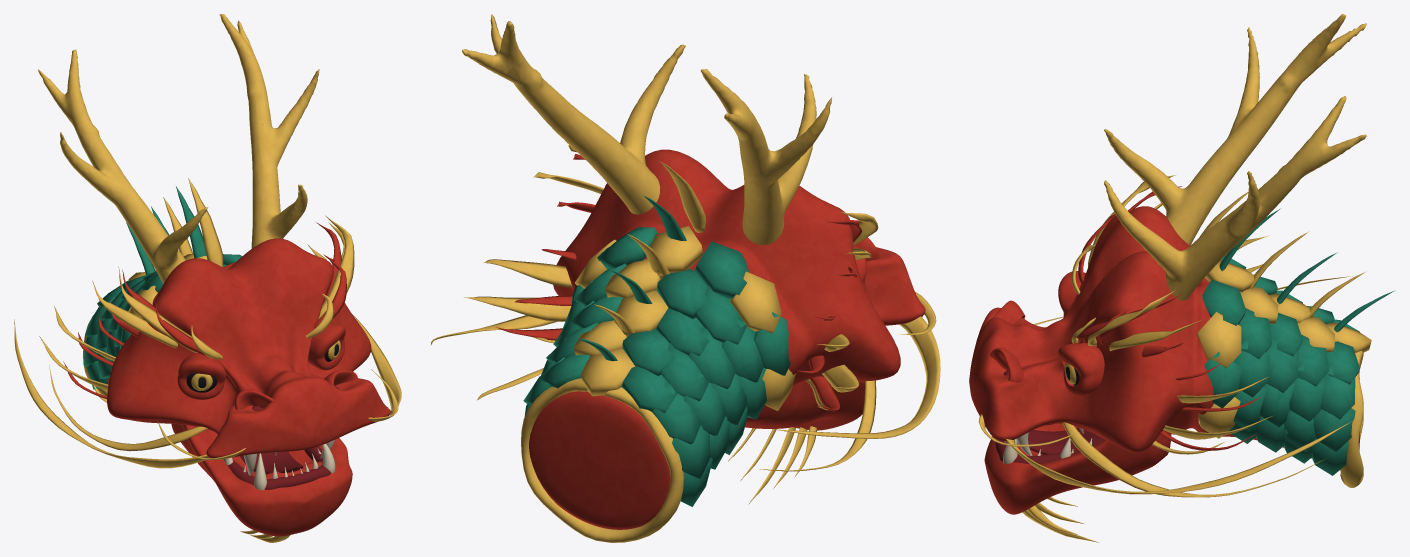
The model's file is temple-dragon-head-preview.glb.
The picture shows the model from 3 angles, left to right: view 1: azimuth 30°, elevation 25°; view 2: azimuth 150°, elevation 25°; view 3: azimuth 270°, elevation 25°; orthographic projection. The views are drawn at different scales.
Parts seen in each view (by area): view 1: Dragon_Cranium_And_Snout, Dragon_Antlers, Dragon_Whiskers_And_Gold_Brows, Dragon_Lower_Jaw, Dragon_Neck_Scales_Emerald, Dragon_Eyelids, Dragon_Flame_Mane_Locks, Dragon_Tongue, Dragon_Dorsal_Mane_And_Collar_Gold, Dragon_Teeth_Fangs; view 2: Dragon_Cranium_And_Snout, Dragon_Neck_Scales_Emerald, Dragon_Antlers, Dragon_Dorsal_Mane_And_Collar_Gold, Dragon_Whiskers_And_Gold_Brows, Dragon_Lower_Jaw, Dragon_Flame_Mane_Locks; view 3: Dragon_Cranium_And_Snout, Dragon_Antlers, Dragon_Neck_Scales_Emerald, Dragon_Dorsal_Mane_And_Collar_Gold, Dragon_Whiskers_And_Gold_Brows, Dragon_Lower_Jaw, Dragon_Eyelids, Dragon_Flame_Mane_Locks, Dragon_Tongue, Dragon_Teeth_Fangs.
Part boxes in pixels (left/top/right/bottom): Dragon_Cranium_And_Snout: left=107, top=238, right=390, bottom=458; Dragon_Antlers: left=38, top=14, right=319, bottom=283; Dragon_Whiskers_And_Gold_Brows: left=14, top=215, right=401, bottom=542; Dragon_Lower_Jaw: left=171, top=423, right=352, bottom=536; Dragon_Neck_Scales_Emerald: left=84, top=186, right=242, bottom=389; Dragon_Eyelids: left=177, top=322, right=358, bottom=410; Dragon_Flame_Mane_Locks: left=63, top=222, right=346, bottom=398; Dragon_Tongue: left=223, top=387, right=338, bottom=489; Dragon_Dorsal_Mane_And_Collar_Gold: left=83, top=178, right=223, bottom=396; Dragon_Teeth_Fangs: left=224, top=439, right=335, bottom=490; Dragon_Cranium_And_Snout: left=529, top=149, right=925, bottom=529; Dragon_Neck_Scales_Emerald: left=523, top=196, right=790, bottom=506; Dragon_Antlers: left=462, top=14, right=832, bottom=244; Dragon_Dorsal_Mane_And_Collar_Gold: left=521, top=161, right=795, bottom=542; Dragon_Whiskers_And_Gold_Brows: left=430, top=145, right=940, bottom=504; Dragon_Lower_Jaw: left=745, top=380, right=865, bottom=430; Dragon_Flame_Mane_Locks: left=496, top=154, right=861, bottom=411; Dragon_Cranium_And_Snout: left=969, top=206, right=1360, bottom=470; Dragon_Antlers: left=1104, top=14, right=1366, bottom=300; Dragon_Neck_Scales_Emerald: left=1202, top=208, right=1394, bottom=475; Dragon_Dorsal_Mane_And_Collar_Gold: left=1197, top=192, right=1371, bottom=487; Dragon_Whiskers_And_Gold_Brows: left=978, top=174, right=1353, bottom=542; Dragon_Lower_Jaw: left=984, top=423, right=1171, bottom=514; Dragon_Eyelids: left=990, top=271, right=1104, bottom=396; Dragon_Flame_Mane_Locks: left=1078, top=186, right=1260, bottom=450; Dragon_Tongue: left=995, top=370, right=1104, bottom=463; Dragon_Teeth_Fangs: left=1003, top=427, right=1092, bottom=463.
Bounding box in the file's own units: 1.96 × 2.46 × 1.95.
6 materials, 4 textured.
